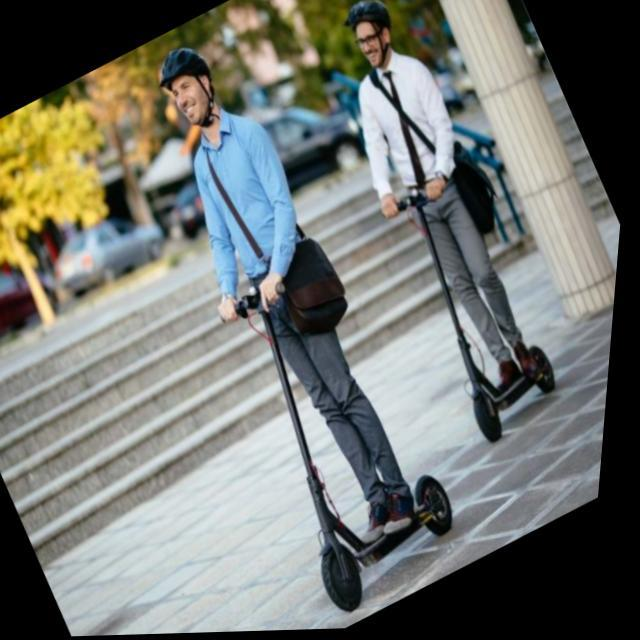Helmet: (152, 38, 221, 137), (339, 0, 402, 74)
